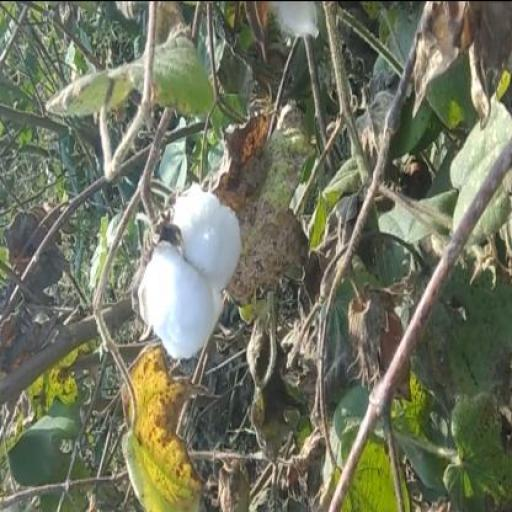cotton_ready: (131, 172, 254, 361)
